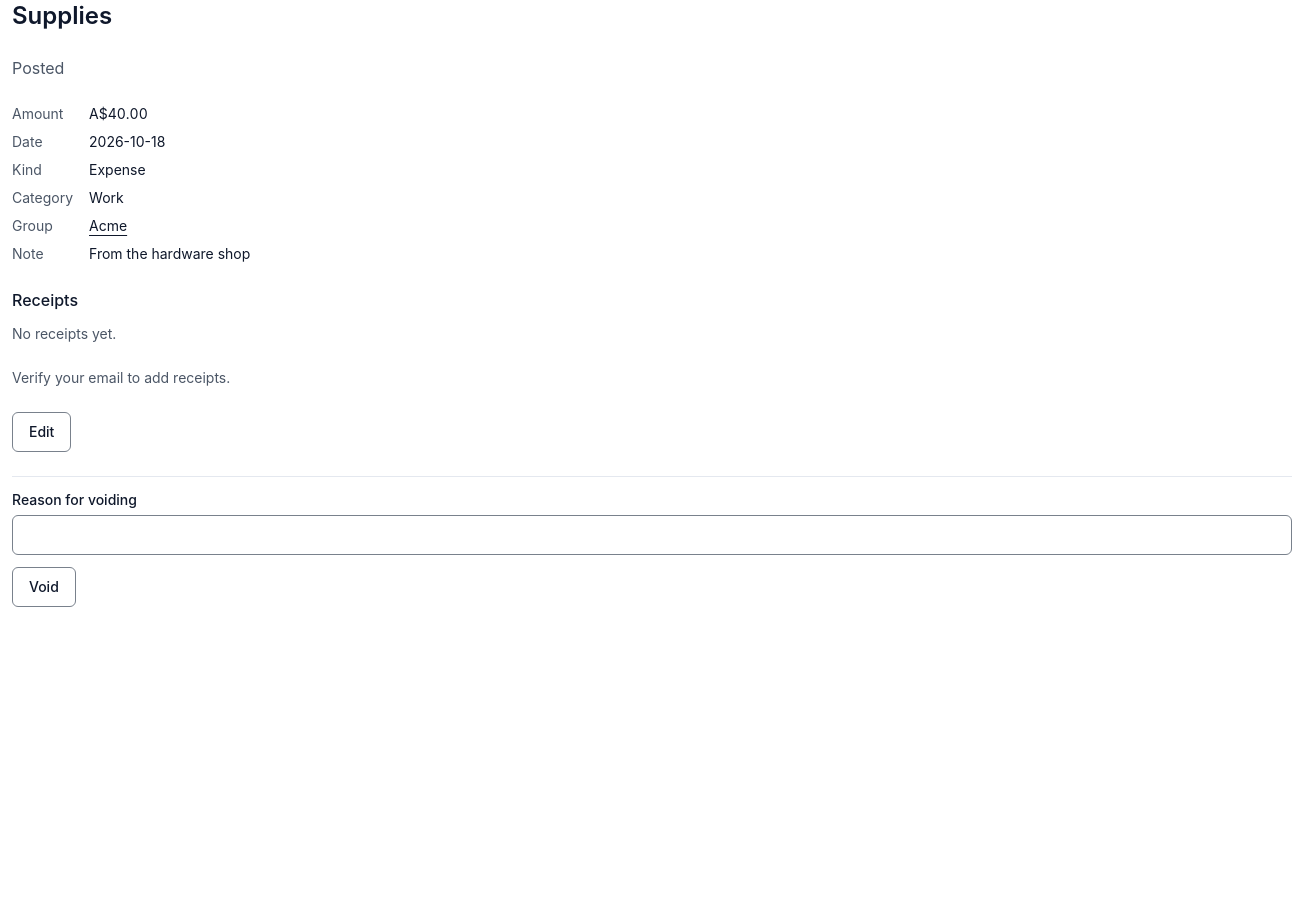
TransactionPage, an employer entry › opens reimbursable as stored, saves it unchanged, then a new amount
Click the button "Edit".
click(42, 432)  # box [12,412,71,452]
(page scrolled)
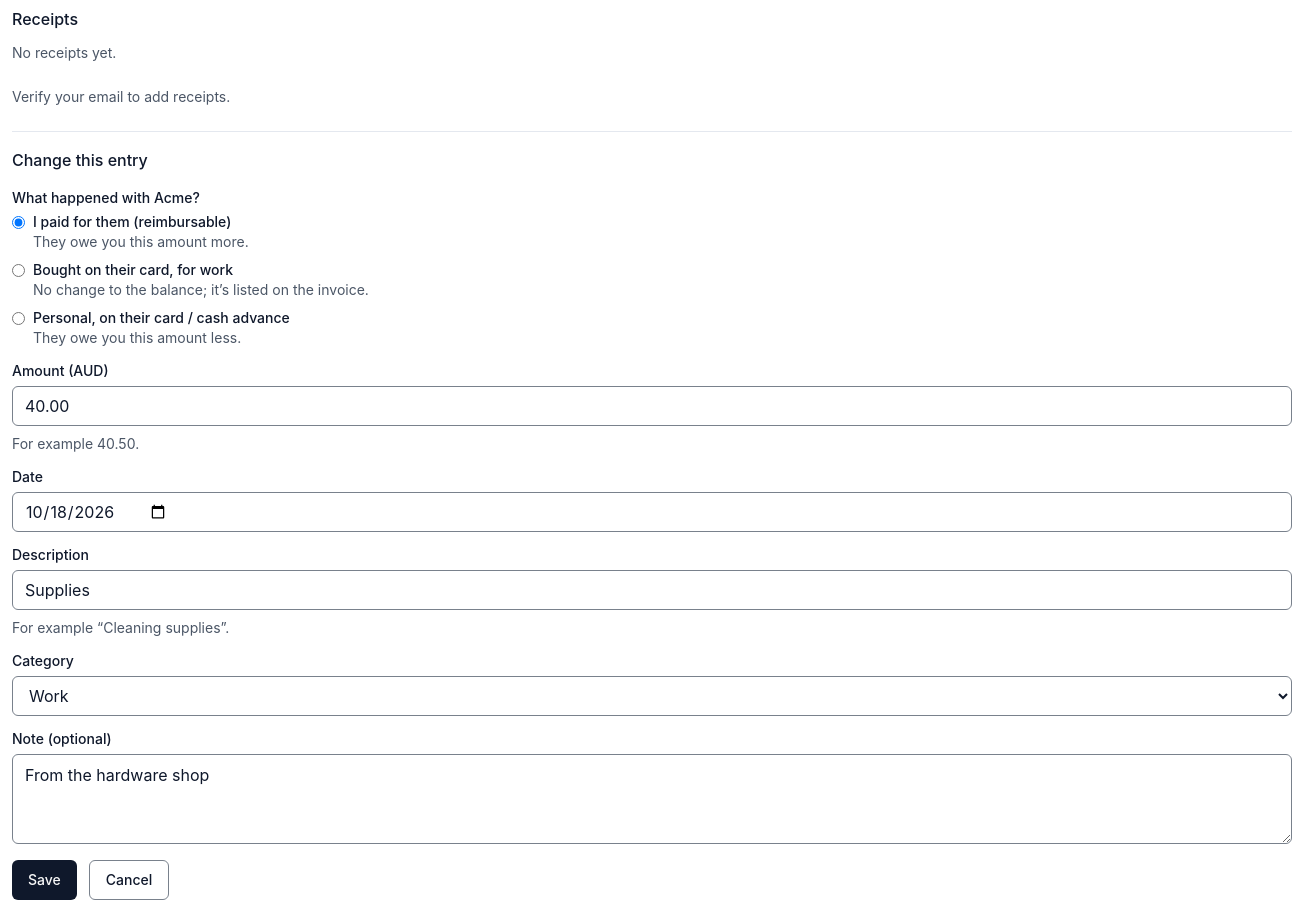
Result: the field labelled "Amount (AUD)" holds "40.00" at [12,386,1292,426]
Result: the date field labelled "Date" holds "2026-10-18" at [12,492,1292,532]
Result: the text box labelled "Note (optional)" holds "From the hardware shop" at [12,754,1292,844]
Click the button "Save".
click(44, 880)  # box [12,860,77,899]
(page scrolled)
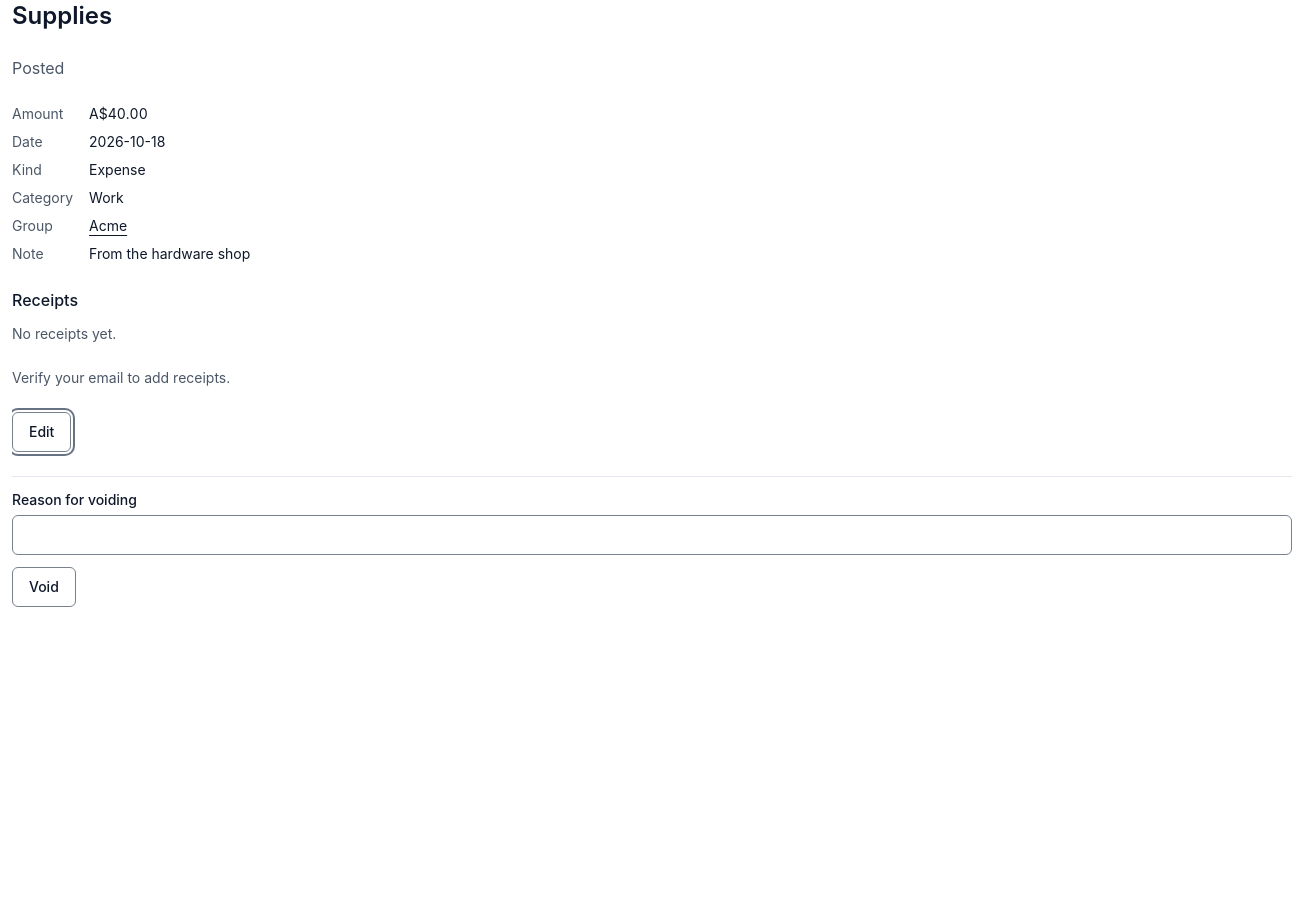
Result: the button "Edit" is shown
Click the button "Edit".
click(42, 432)  # box [12,412,71,452]
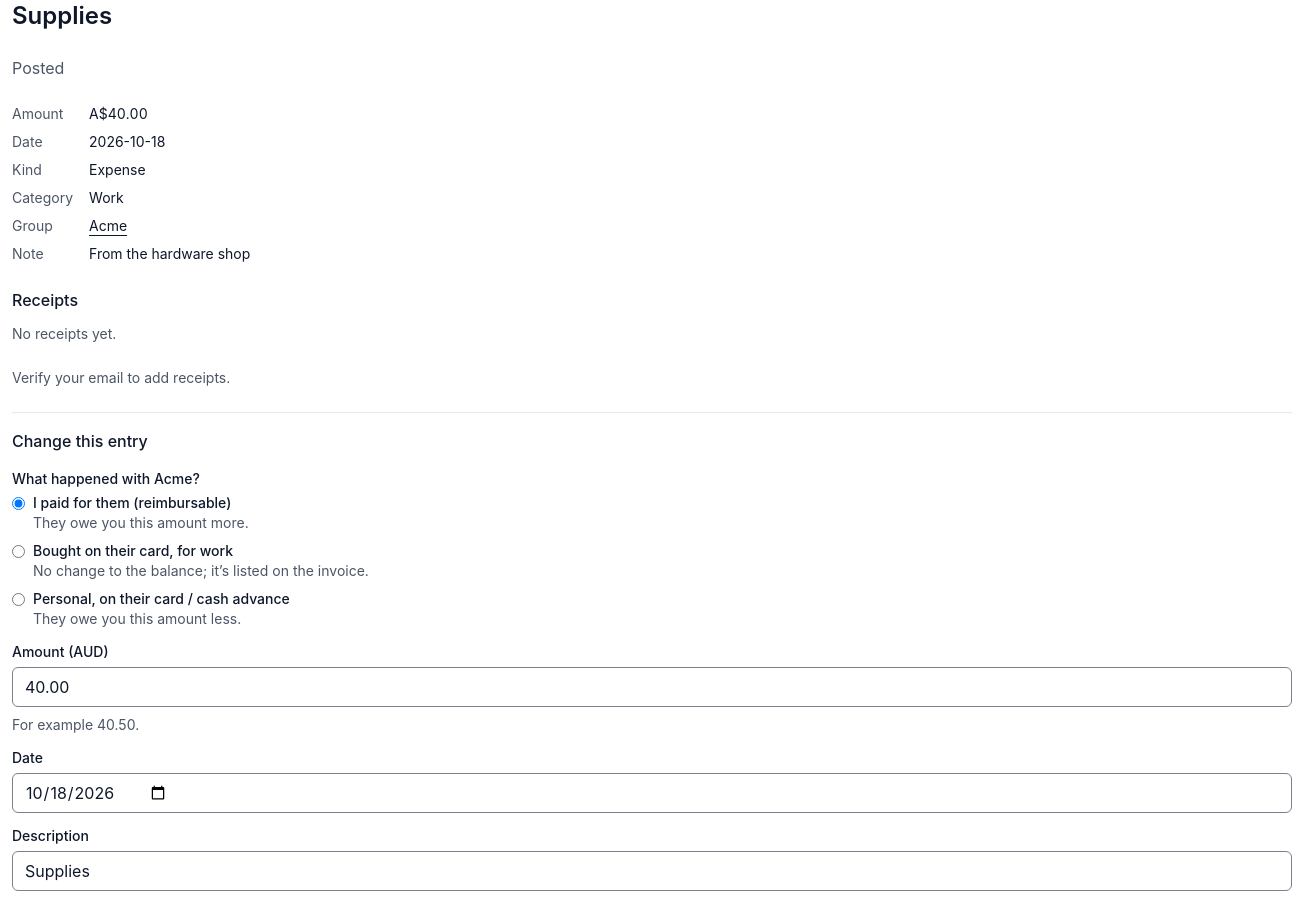
Replace the text in the field labelled "Amount (AUD)" with "55.10" at (652, 687), box [12,667,1292,707]
(page scrolled)
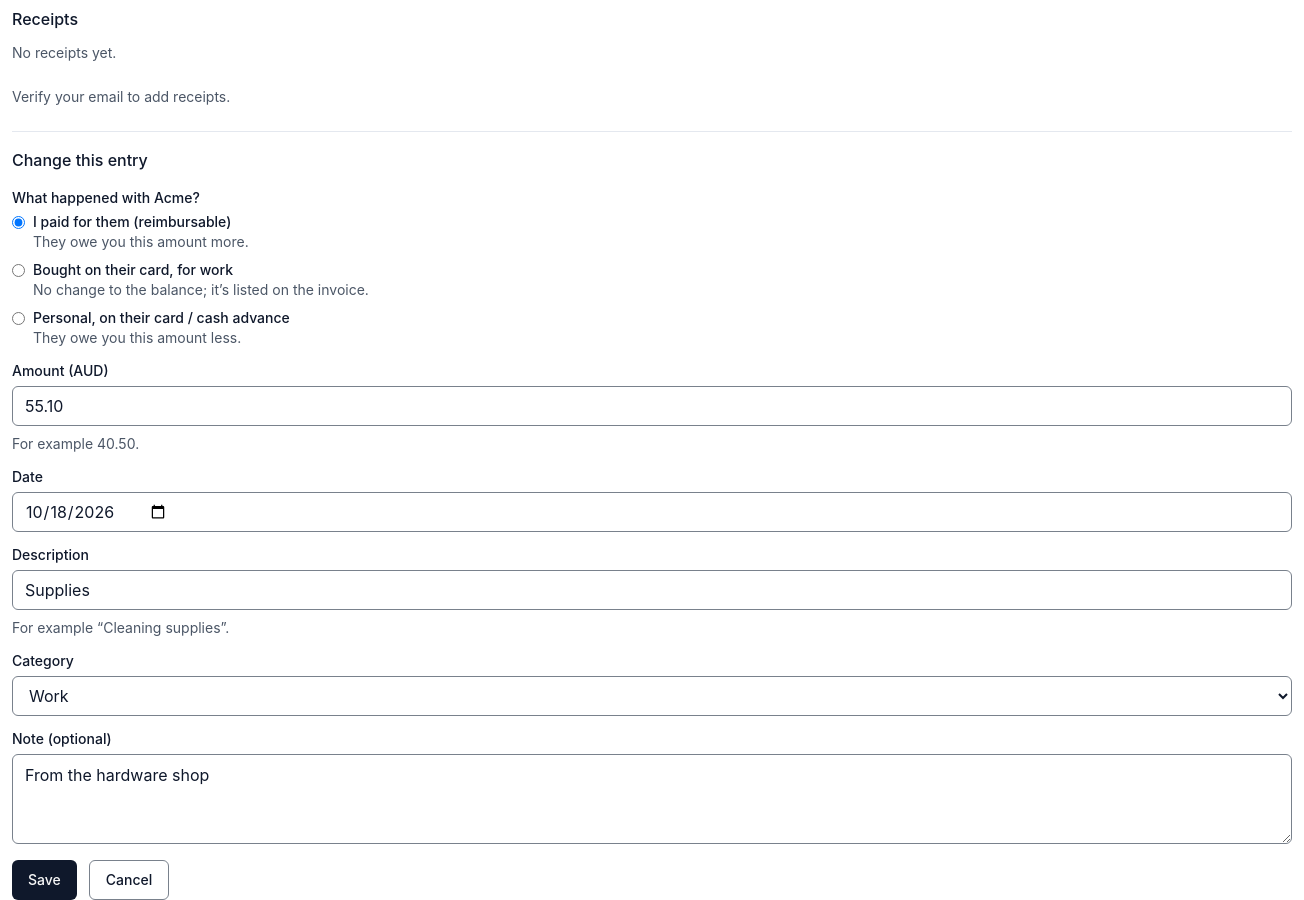
Click the button "Save".
click(44, 880)  # box [12,860,77,899]
(page scrolled)
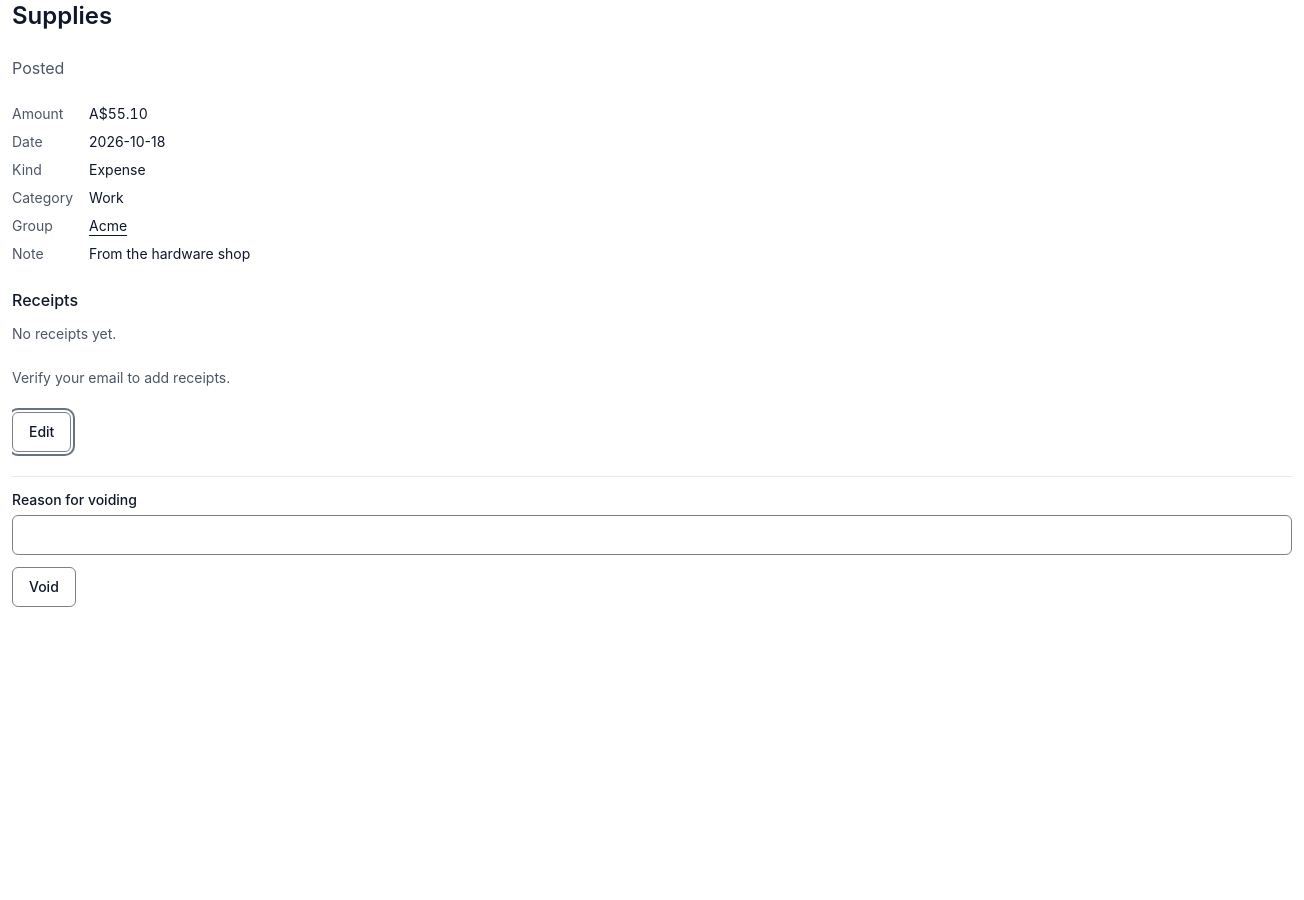
Result: the text "A$55.10" is shown at [89,105,148,122]
Result: the button "Edit" is shown
Click the button "Edit".
click(42, 432)  # box [12,412,71,452]
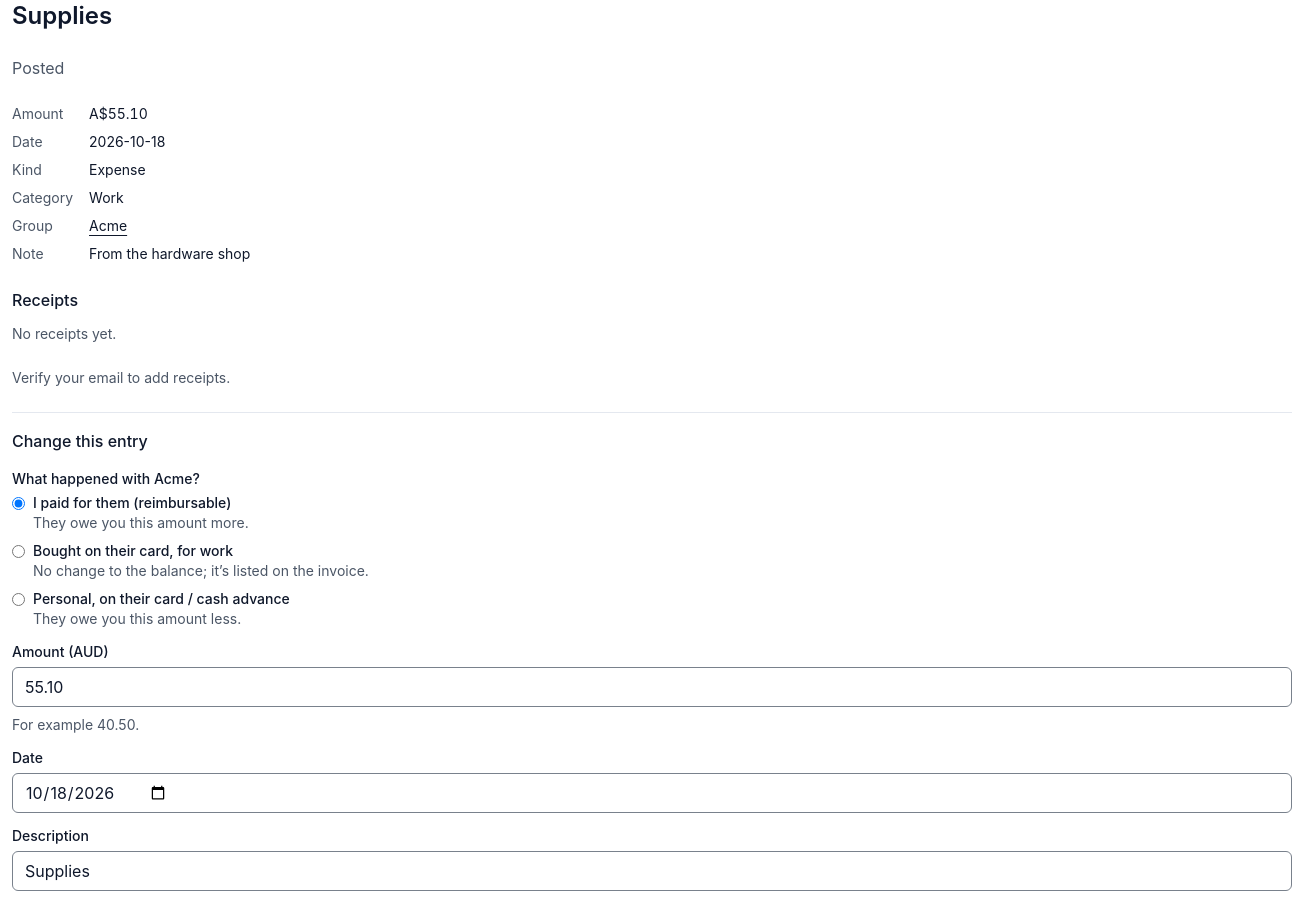
Result: the field labelled "Amount (AUD)" holds "55.10" at [12,667,1292,707]
